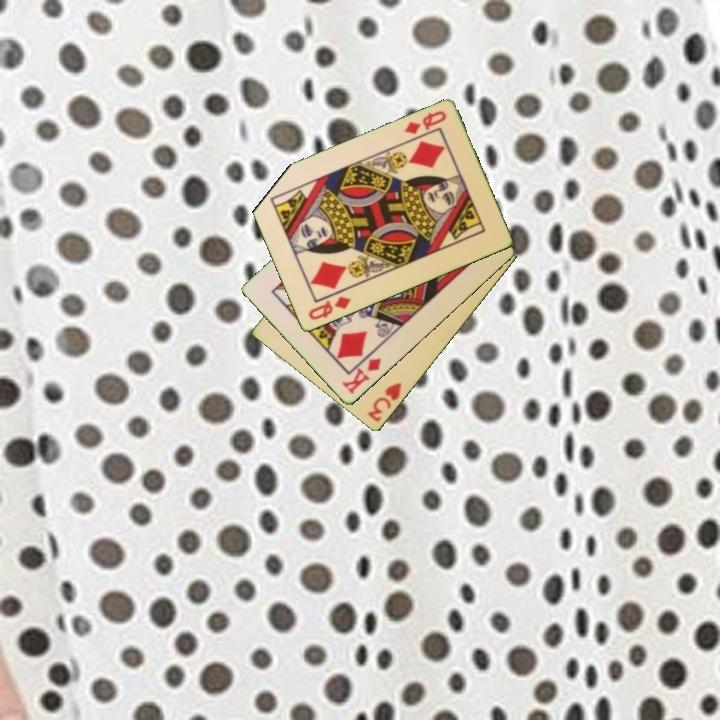3h: (364, 379, 405, 425)
Kd: (338, 355, 384, 398)
Qd: (401, 107, 449, 138), (305, 293, 354, 323)
